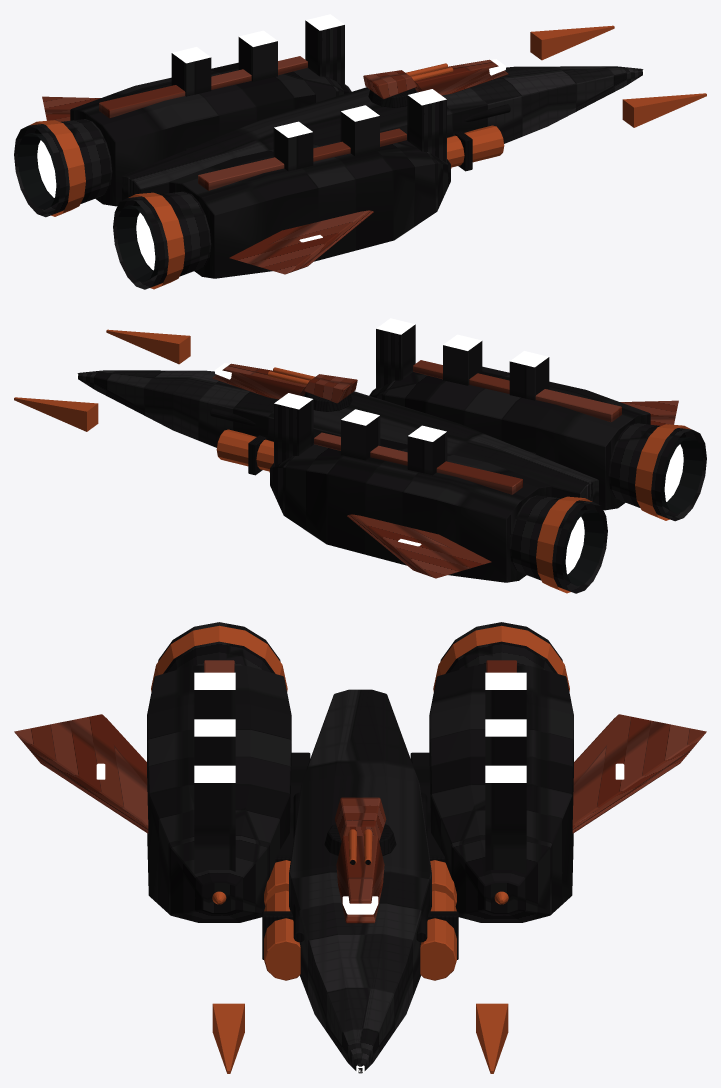
File: corvette.glb
The picture shows the model from 3 angles, top to bottom: view 1: azimuth 30°, elevation 25°; view 2: azimuth 150°, elevation 25°; view 3: azimuth 270°, elevation 25°; orthographic projection. The views are drawn at different scales.
Visible parts, largest first — view 1: corvette; view 2: corvette; view 3: corvette.
Boxes of the visible parts, x1,y1,x2,y2 form: corvette: (14, 14, 706, 289); corvette: (14, 318, 706, 593); corvette: (14, 622, 706, 1073).
Size of the model in its own units: 20 by 4.05 by 14.67.
Materials: 1 (1 with a texture image).
